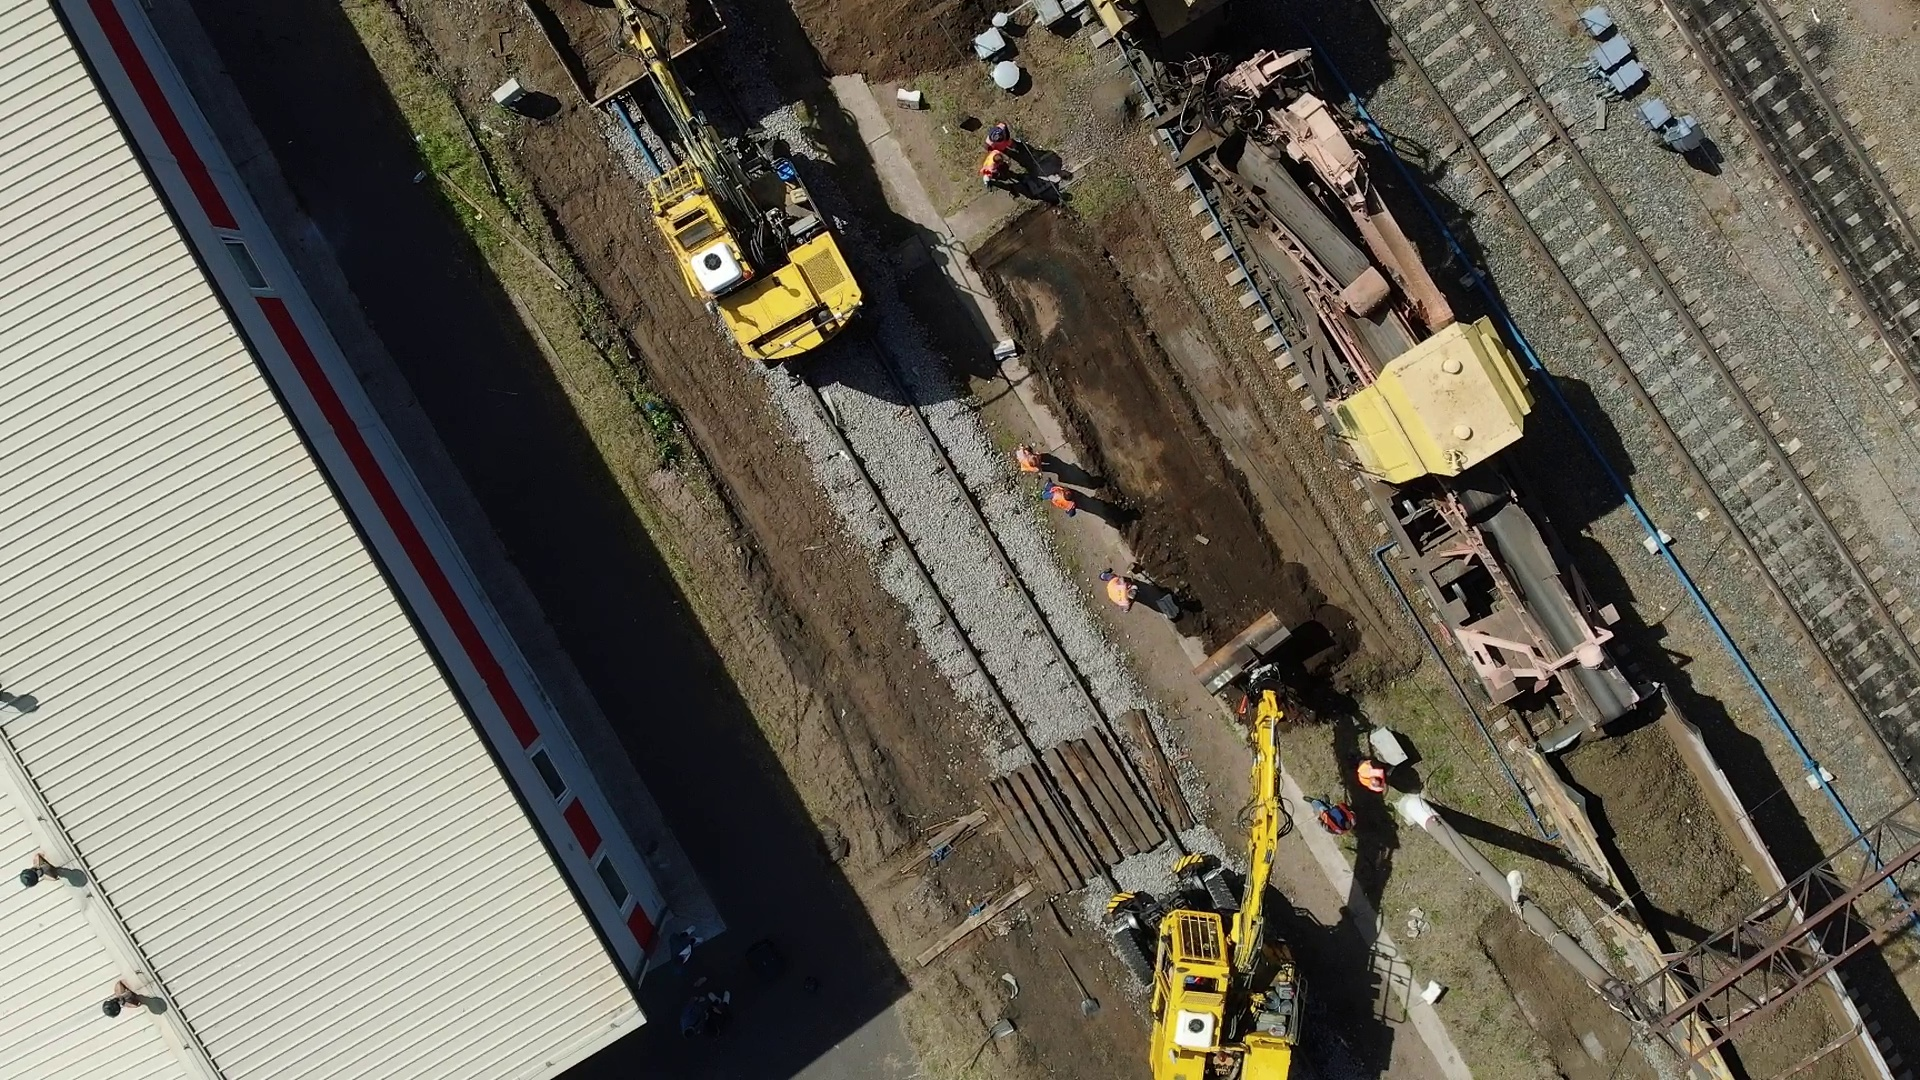kjtv: (640, 136, 854, 361), (1119, 850, 1313, 1080)
